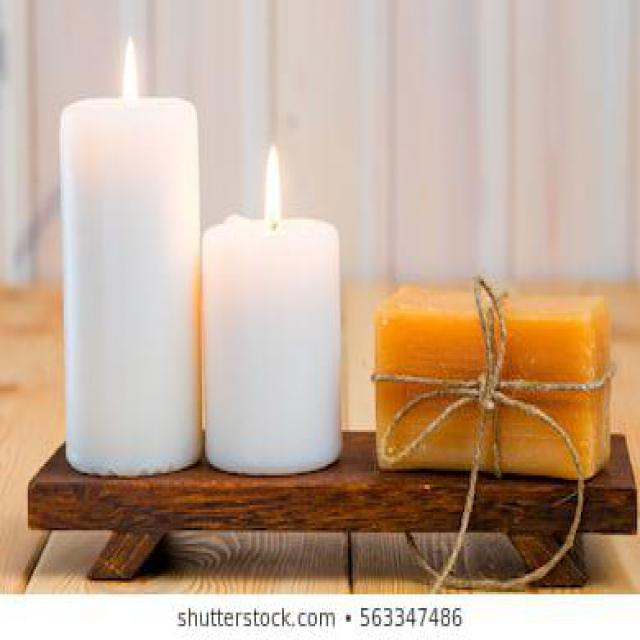Fire: (265, 142, 283, 228), (122, 34, 138, 108)
